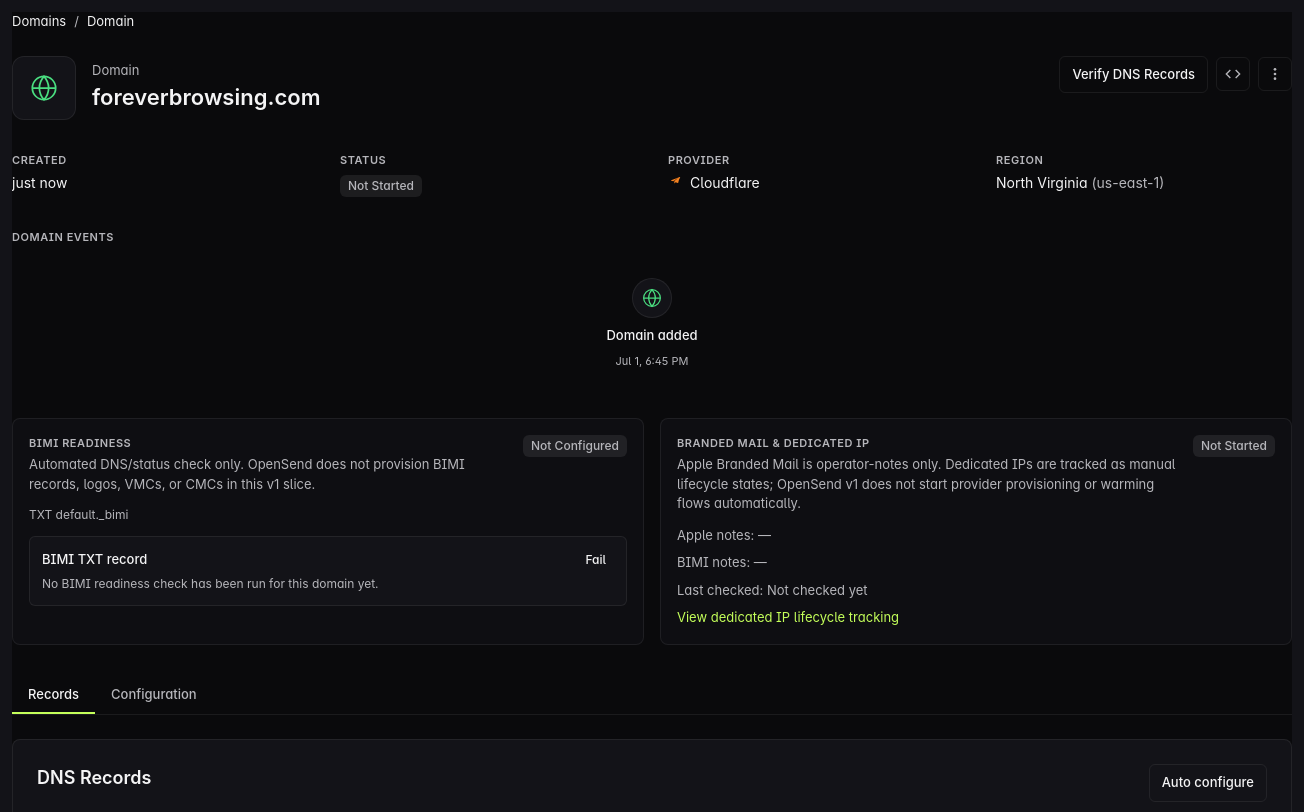
Test: Domain detail – Verify button › shows error message when verify request fails
What coordinates should you click on to do the following:
click the button "Verify DNS Records"
I would click on:
 (1134, 74)
Its box is [1059,56,1208,93].
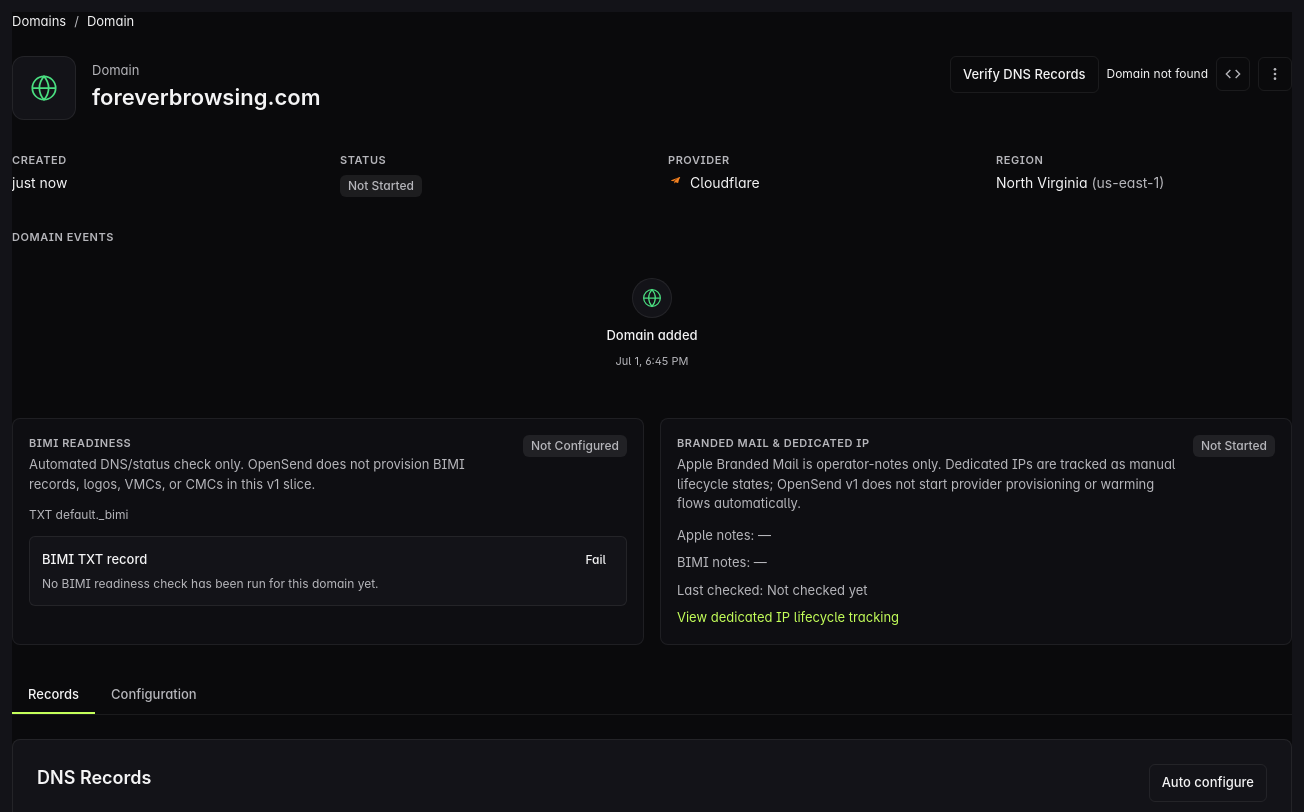
Check: the message reads "Domain not found", box [1106,66,1208,81]
